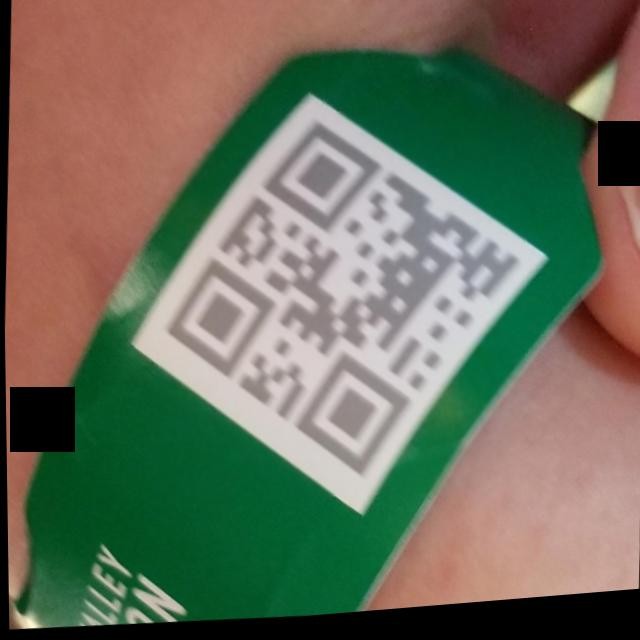QR_CODE: (150, 98, 533, 520)
